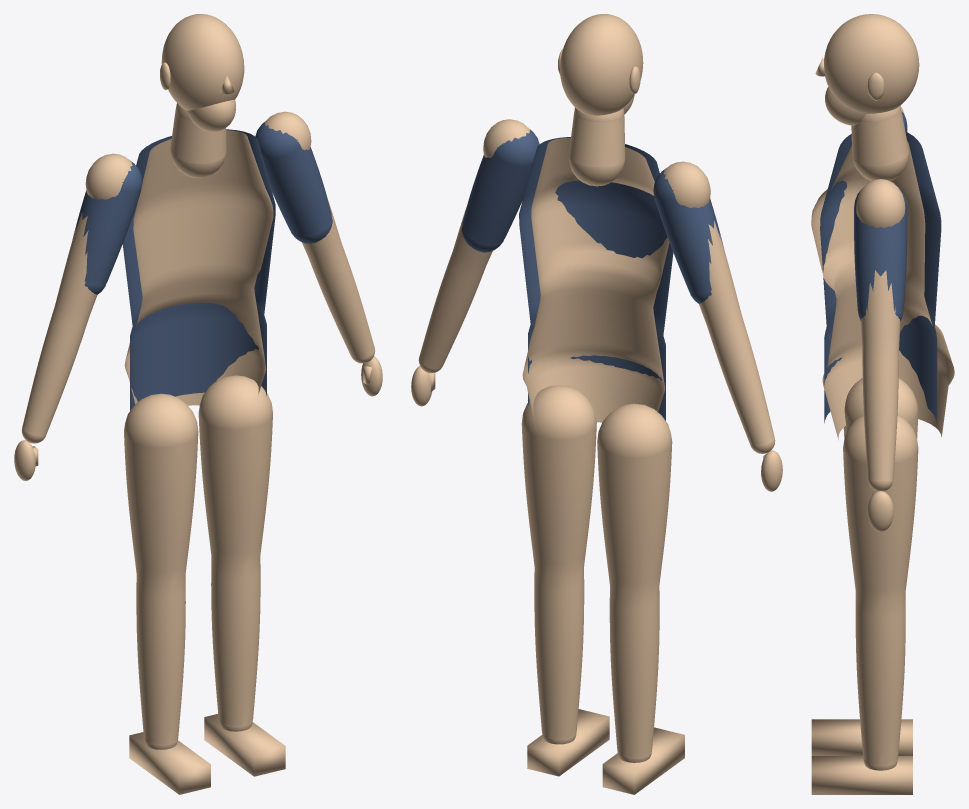
The model's file is tryon_perfect.glb.
3 renders of one model, left to right at view 1: azimuth 30°, elevation 25°; view 2: azimuth 150°, elevation 25°; view 3: azimuth 270°, elevation 25°, orthographic.
Parts seen in each view (by area): view 1: body_mesh, garment_mesh; view 2: body_mesh, garment_mesh; view 3: body_mesh, garment_mesh.
Part boxes in pixels (x1,y1,x2,y2): body_mesh: (14, 14, 382, 794); garment_mesh: (72, 122, 332, 410); body_mesh: (411, 14, 782, 794); garment_mesh: (461, 129, 723, 420); body_mesh: (811, 14, 954, 794); garment_mesh: (820, 112, 941, 424).
Bounding box in the file's own units: 0.9258 × 1.8 × 0.3122.
